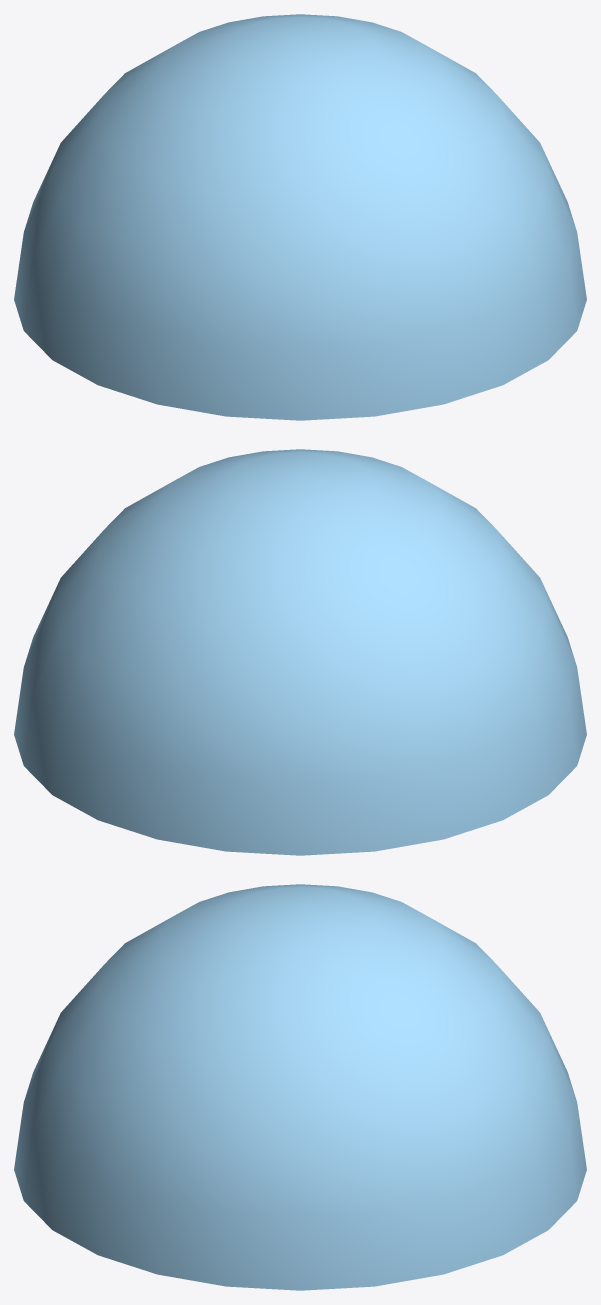
File: skydome.dae
3 views of the same model, one above another, from view 1: azimuth 30°, elevation 25°; view 2: azimuth 150°, elevation 25°; view 3: azimuth 270°, elevation 25° (orthographic).
Parts seen in each view (by area): view 1: dome; view 2: dome; view 3: dome.
Boxes of the visible parts, x1,y1,x2,y2 form: dome: (14,14,586,420); dome: (14,449,586,855); dome: (14,884,586,1290).
Size of the model in its own units: 8711360 by 8711360 by 4355680.
